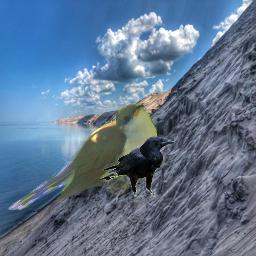Crow: (98, 136, 176, 197)
Cuckoo: (6, 103, 157, 210)
